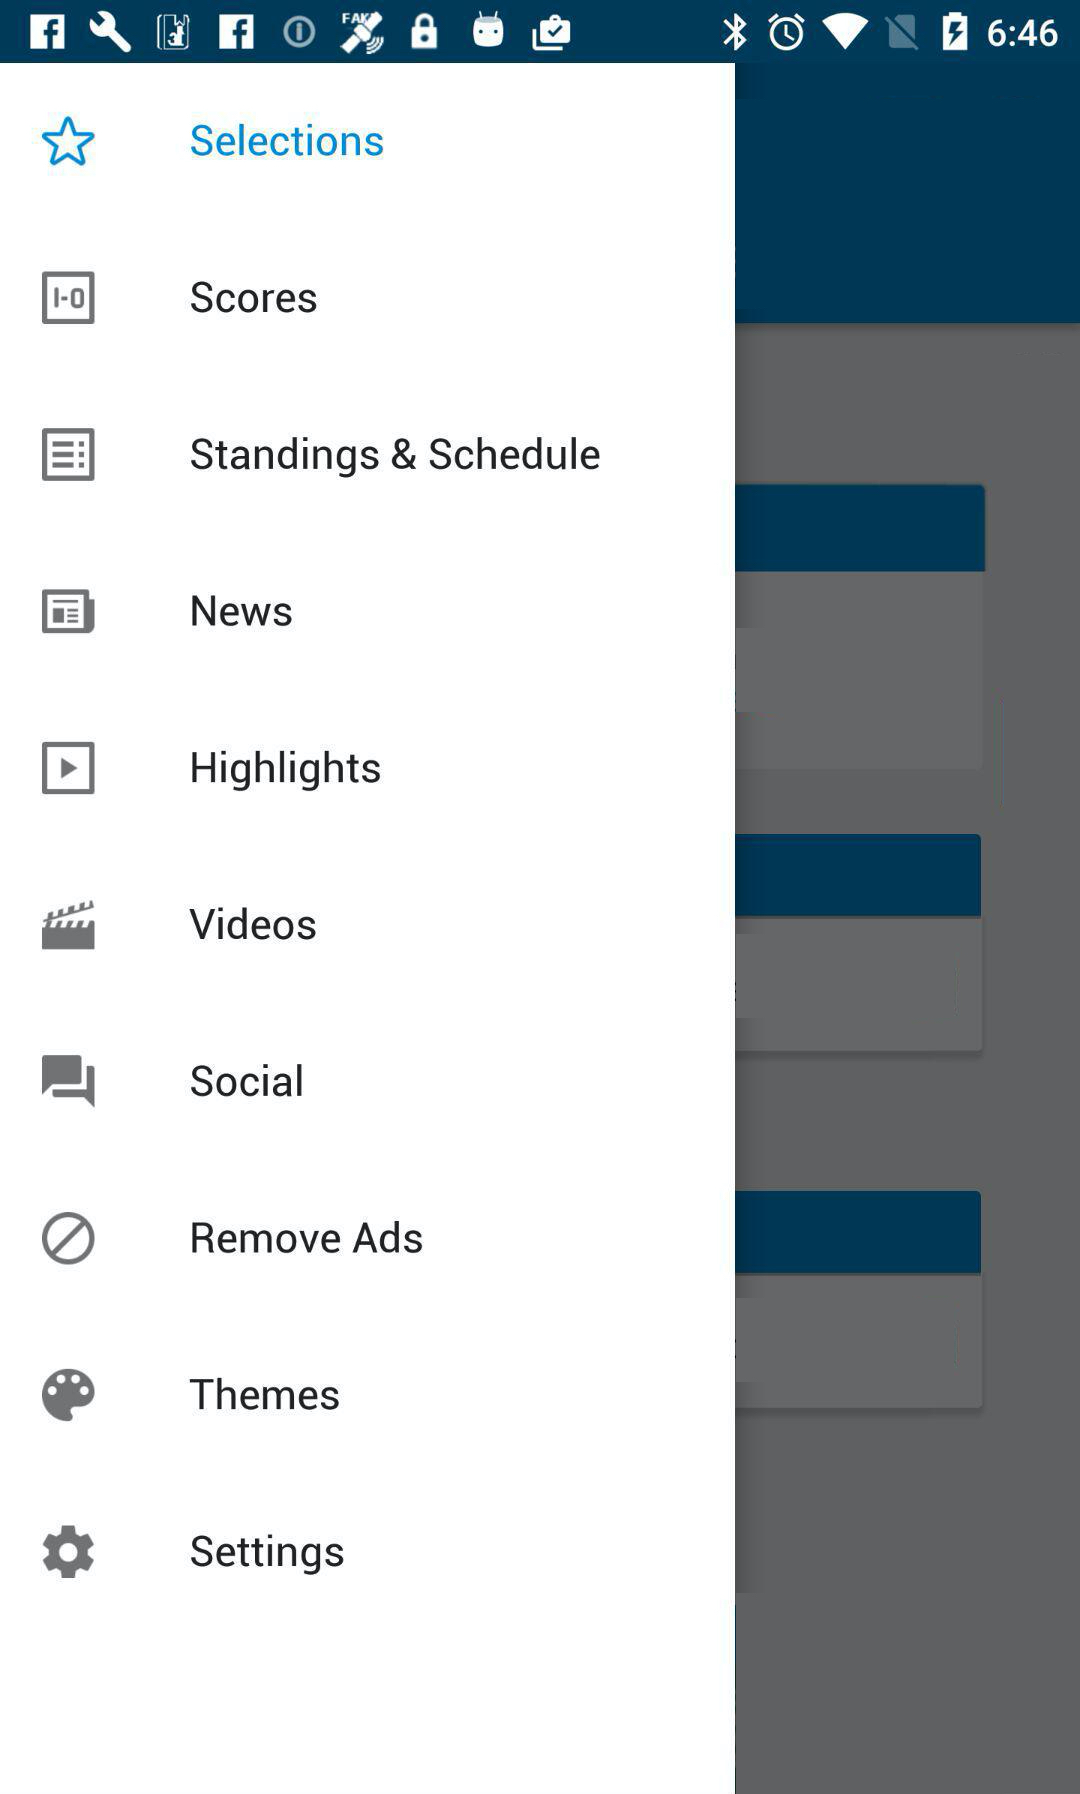Drawer: (1, 64, 735, 1794)
Icon: (42, 1055, 97, 1108), (42, 741, 97, 794), (42, 428, 96, 482), (44, 1525, 95, 1579), (42, 117, 97, 167), (42, 589, 97, 636)
Image: (42, 1211, 96, 1266), (42, 270, 96, 325), (42, 1369, 96, 1422), (42, 900, 97, 951)
Text: (190, 436, 601, 481), (192, 750, 382, 793), (191, 1220, 424, 1255), (191, 123, 386, 158), (191, 1533, 345, 1576), (190, 1378, 340, 1411), (190, 281, 318, 315), (190, 906, 316, 941), (191, 1064, 304, 1098), (192, 595, 293, 628)
UpperTaskBar: (1, 1, 1080, 64)
